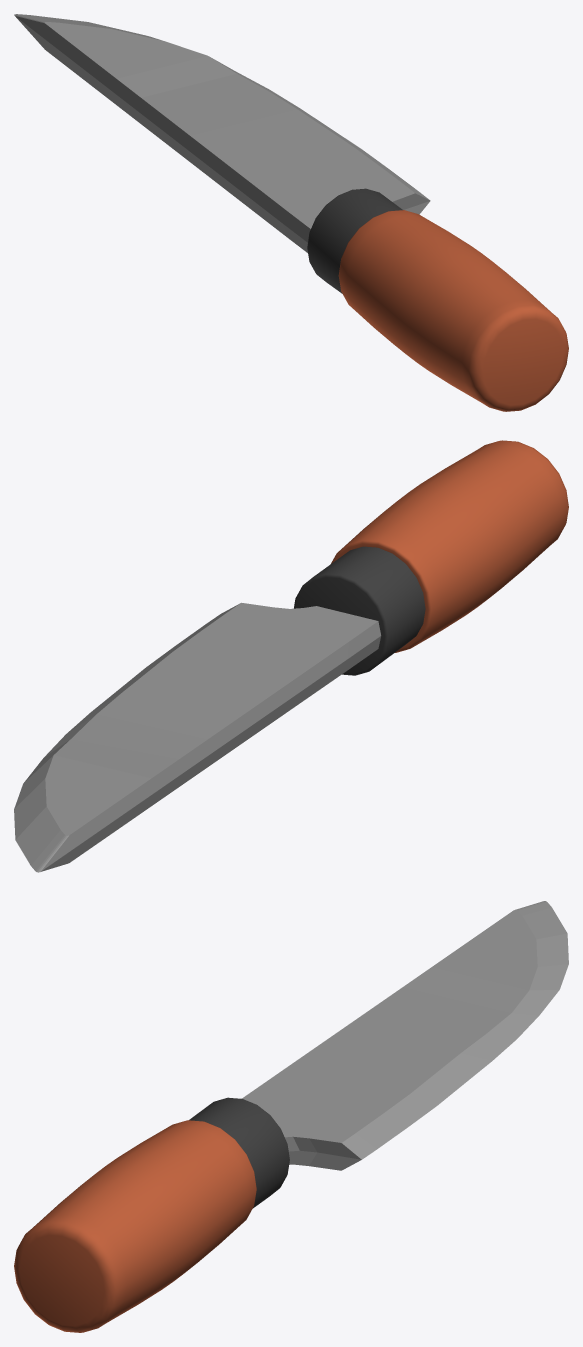
The model's file is SM_Knife.fbx.
3 views of the same model, one above another, from view 1: azimuth 30°, elevation 25°; view 2: azimuth 150°, elevation 25°; view 3: azimuth 330°, elevation 25° (orthographic). The views are drawn at different scales.
Parts seen in each view (by area): view 1: Knife; view 2: Knife; view 3: Knife.
Part boxes in pixels (x1=…): Knife: x1=14, y1=14, x2=568, y2=411; Knife: x1=14, y1=440, x2=568, y2=872; Knife: x1=14, y1=901, x2=568, y2=1332.
Size of the model in its own units: 29.45 by 21.34 by 162.
